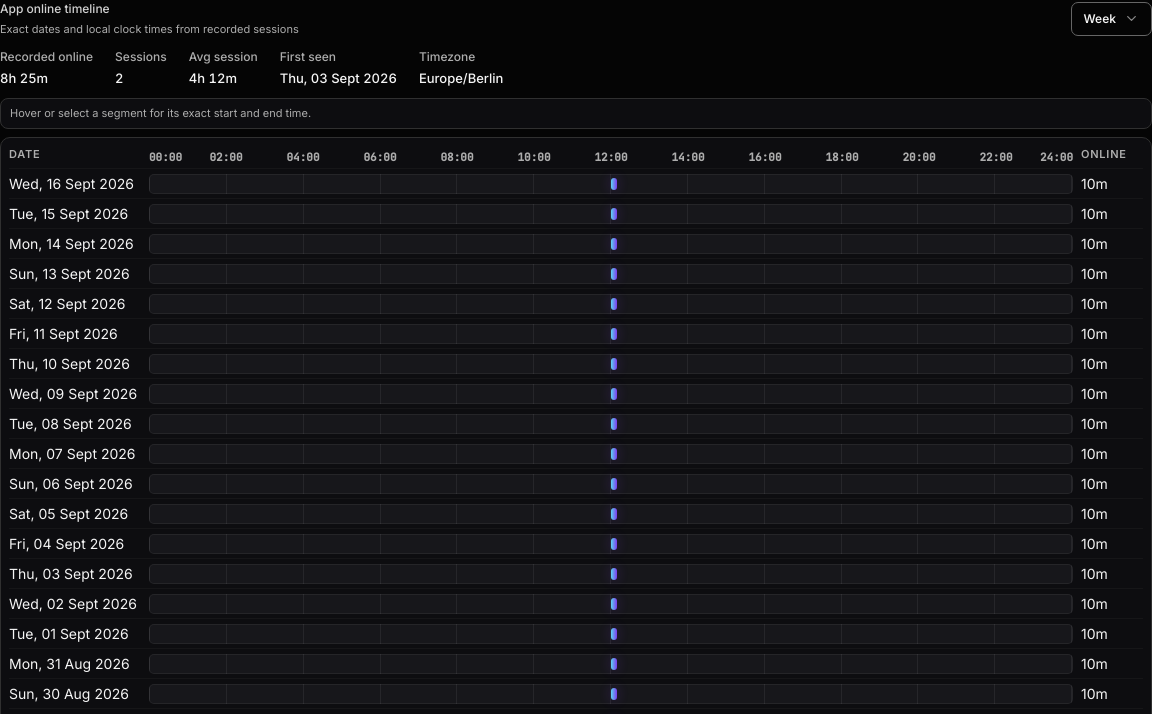
UserActivityPanel › drops the selection and the flash when the page of days changes
This screenshot has width=1152, height=714.
What coordinates should you click on to do the following:
click the 1st button with class "user-activity-timeline-segment"
I would click on:
 (614, 184)
Its box is [611,178,617,190].
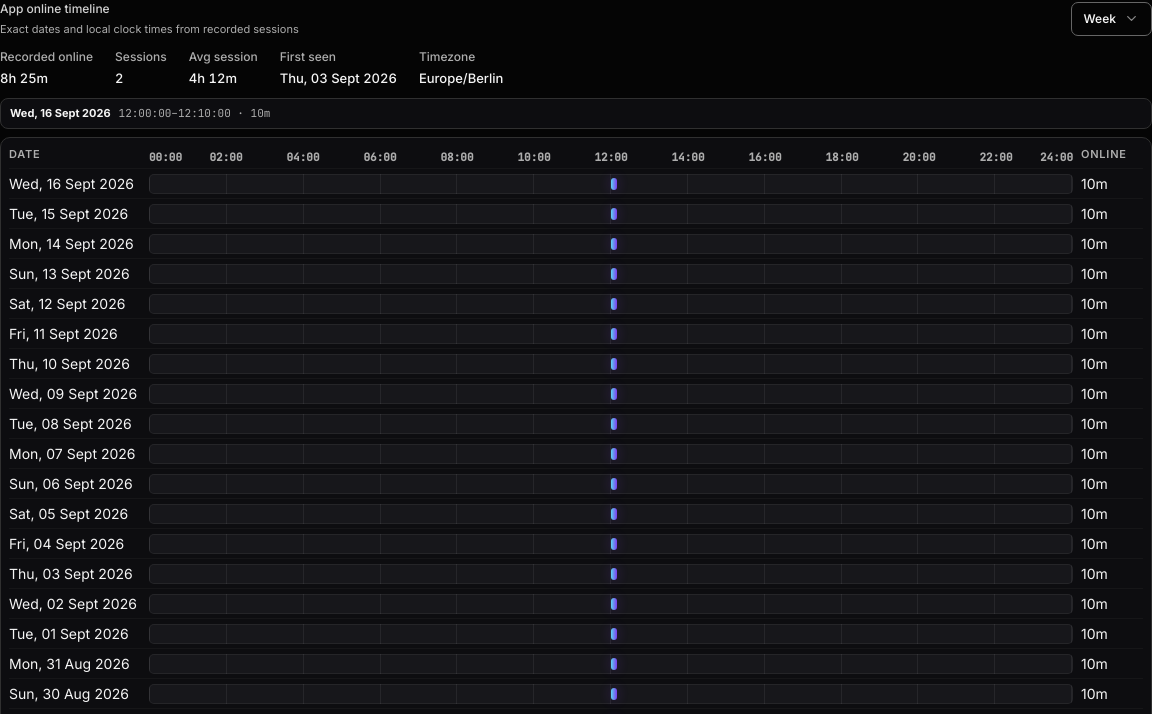
What coordinates should you click on to do the following:
click the button with class "user-activity-timeline-date" showing "Wed, 16 Sept 2026"
I would click on:
 (75, 184)
Its box is [9,173,141,195].
(page scrolled)
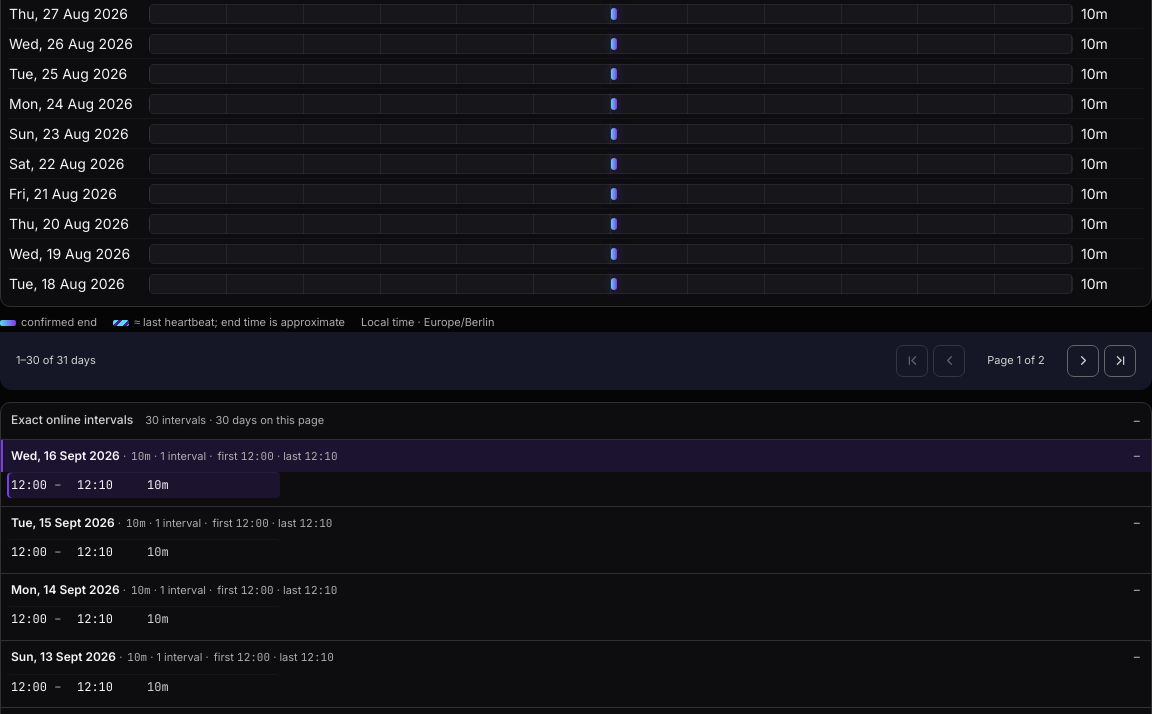
Expected: the text with class "user-activity-selection" does not show "Hover or select"
Result: the list item with class "is-selected" is shown at [7,472,280,498]
Result: the element with class "is-flash" is shown at [1,438,1151,506]
What coordinates should you click on to do the following:
click the button named "Next page"
I would click on:
 (1083, 360)
Its box is [1067,344,1099,376].
(page scrolled)
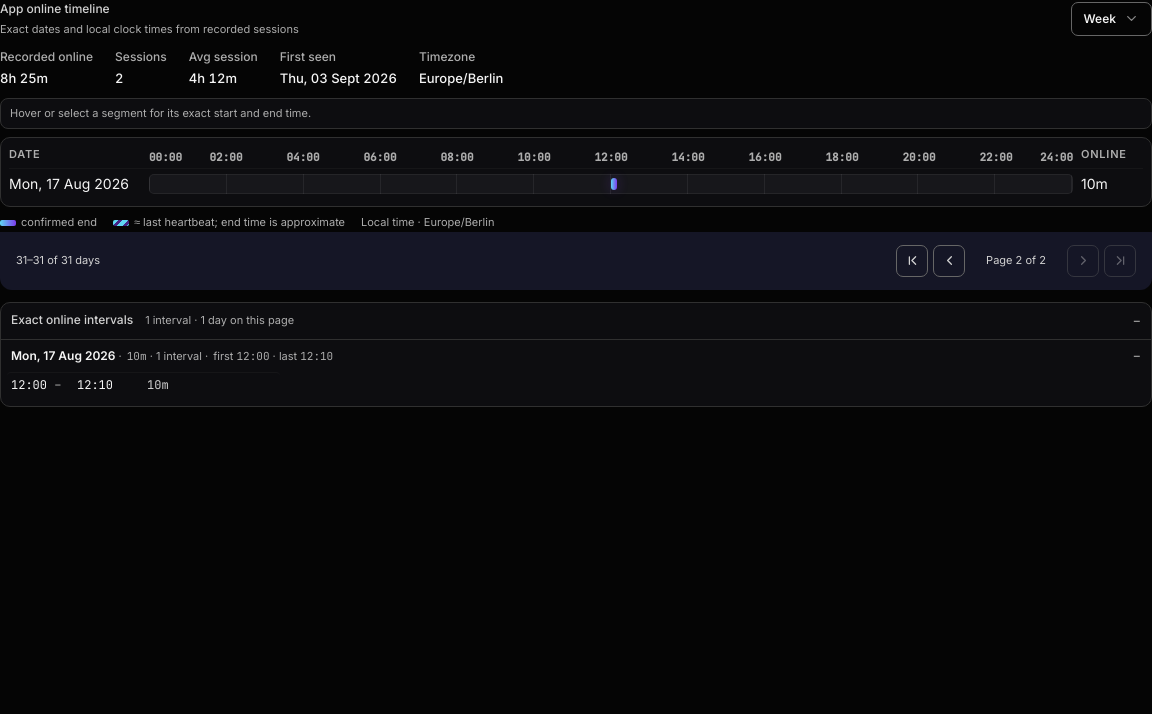
Result: the list item with class "is-selected" is gone
Result: the element with class "is-flash" is gone
Result: the text "Hover or select a segment for its exact start and end time." is shown at [10,105,311,122]
